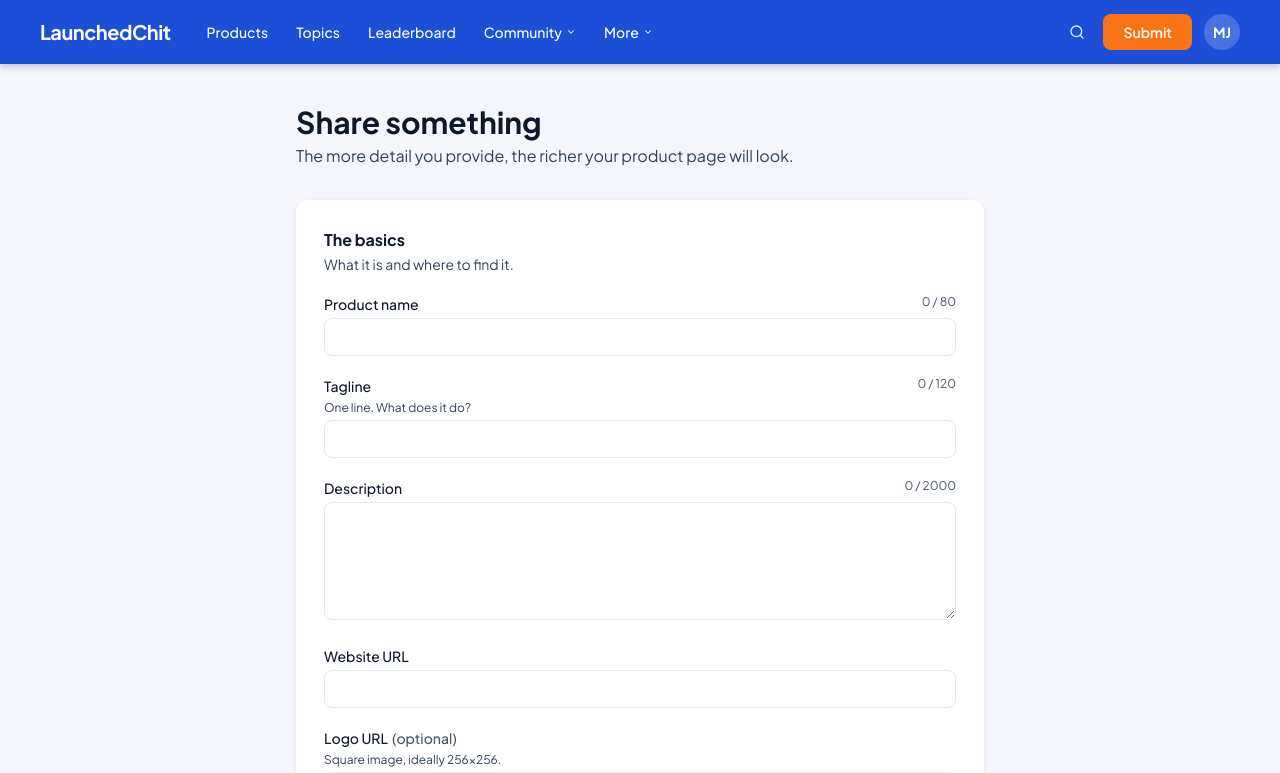
Scenario: SubmitPage › shows char counter for name field
This screenshot has width=1280, height=773.
In the field labelled "Product name": (640, 337) [324,318,956,356], type "FarmLink"
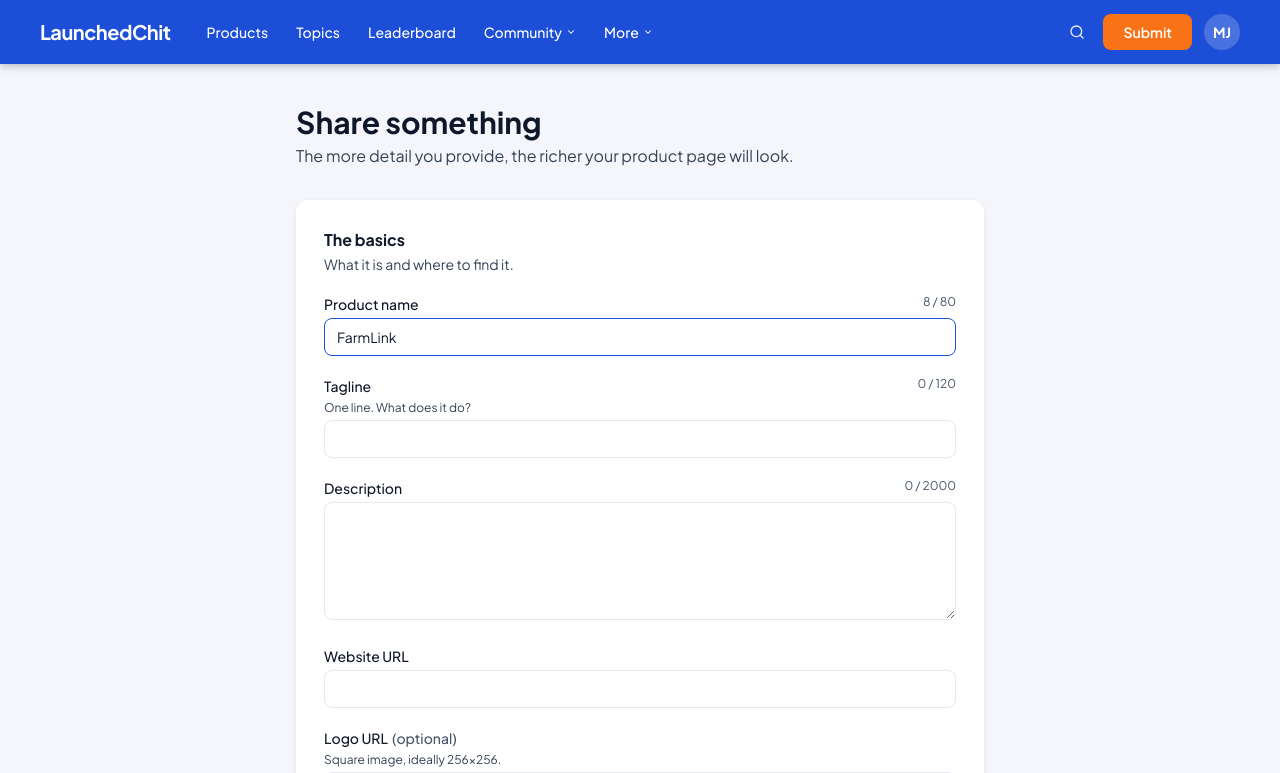
Expected: the text "8 / 80" is shown, [923,294,956,314]
